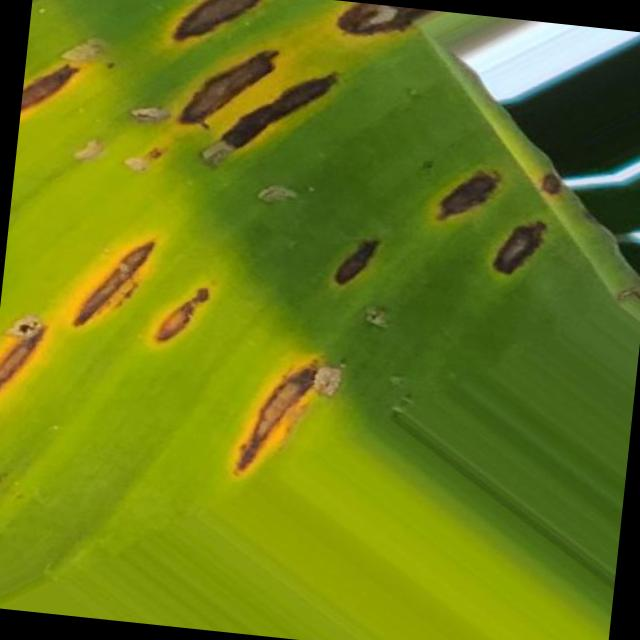Banana_Yellow_Sigatoka: (0, 218, 342, 471), (27, 0, 416, 176)
